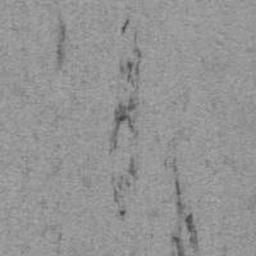Inclusion: (169, 179, 201, 256), (109, 96, 141, 150), (109, 156, 141, 204), (118, 32, 143, 93), (56, 12, 67, 72), (120, 18, 129, 33), (119, 209, 127, 216)
